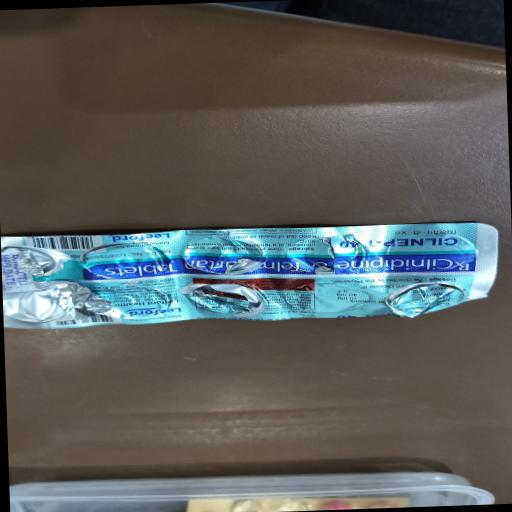cilnidipine: (94, 247, 462, 285)
medicine: (0, 218, 498, 336)
